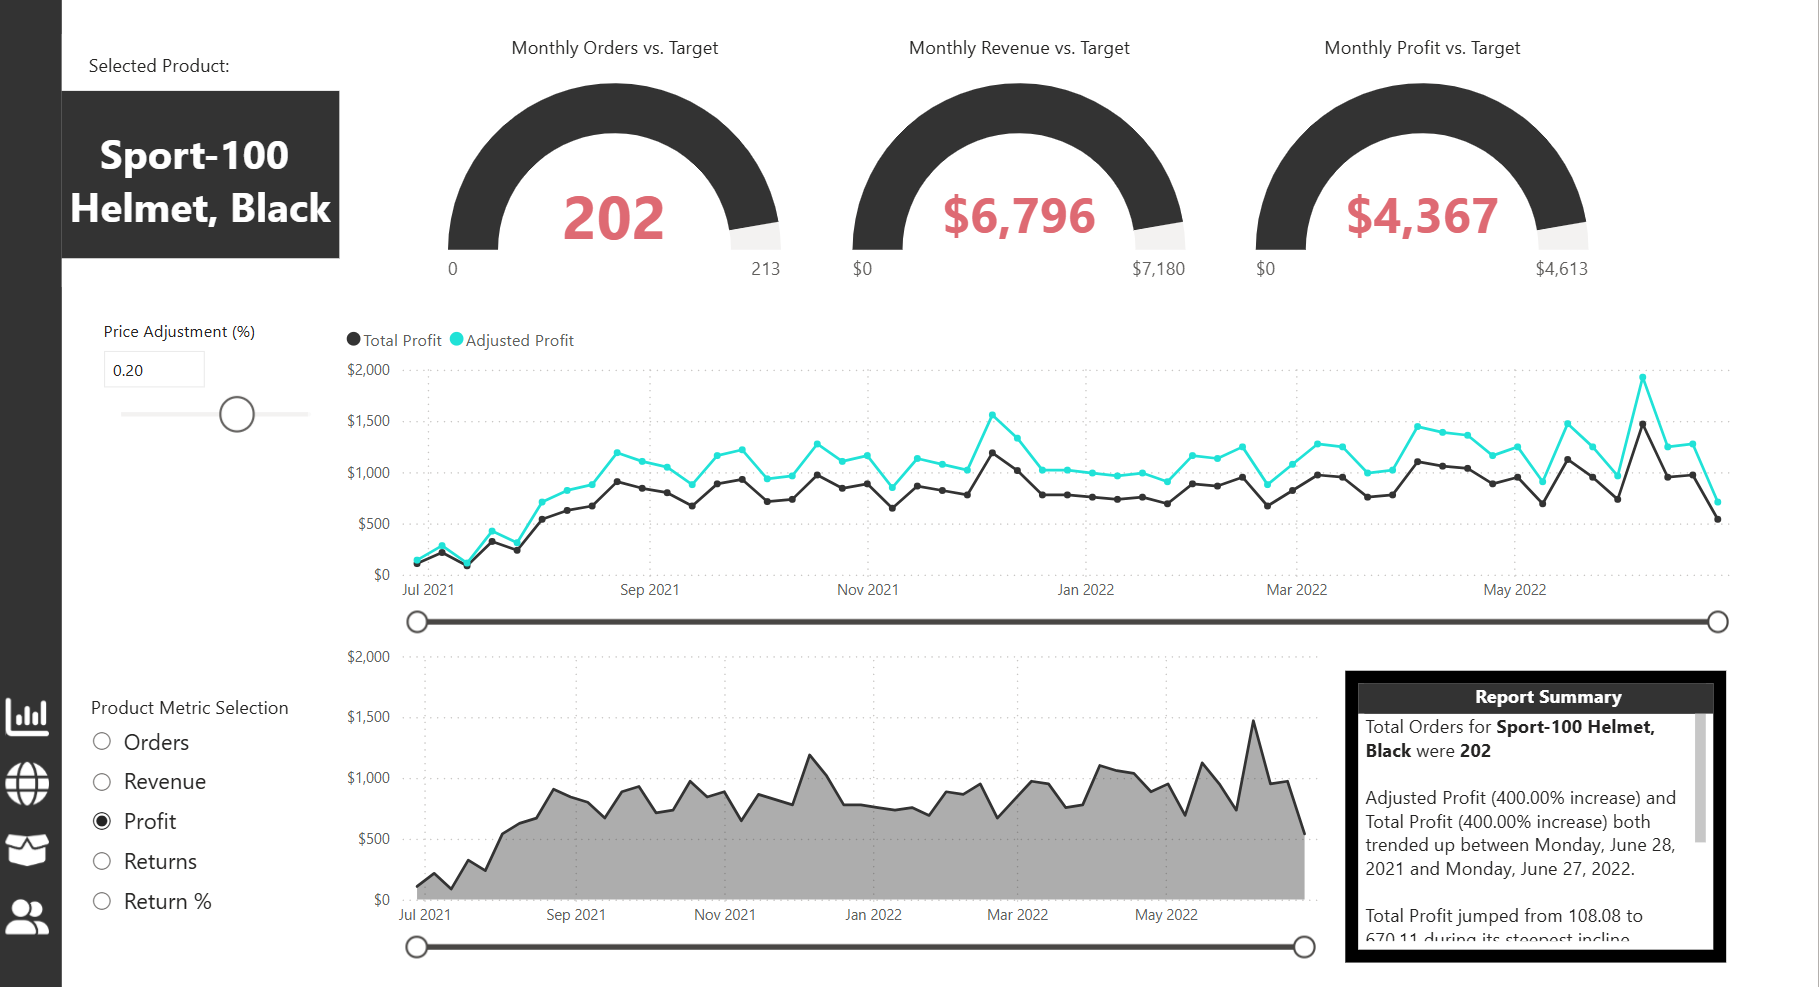

Layout of this report page (visuals, bound fields, positions):
{"tool":"powerbi","page":{"name":"Product Detail","canvas":[1280,720],"ordinal":2},"visuals":[{"type":"shape","box":[0,0,45,720],"z":0},{"type":"actionButton","box":[0,502.2,62.2,39.8],"z":0,"group":"g1"},{"type":"gauge","title":"Monthly Orders vs. Target","fields":{"MaxValue":["Measure Table.Order Target"],"Y":["Measure Table.Total Orders"]},"box":[322,24.9,252.4,202.6],"z":1000},{"type":"actionButton","box":[0,599.2,62.2,39.8],"z":1000,"group":"g1"},{"type":"gauge","title":"Monthly Profit vs. Target","fields":{"MaxValue":["Measure Table.Profit Target"],"Y":["Measure Table.Total Profit"]},"box":[910,24.9,252.4,202.6],"z":2000},{"type":"actionButton","box":[0,647.7,62.2,39.8],"z":2000,"group":"g1"},{"type":"gauge","title":"Monthly Revenue vs. Target","fields":{"MaxValue":["Measure Table.Revenue Target"],"Y":["Measure Table.Total Revenue"]},"box":[616,24.9,252.4,202.6],"z":3000},{"type":"actionButton","box":[0,550.7,62.2,39.8],"z":3000,"group":"g1"},{"type":"lineChart","title":"Profit Trending","fields":{"Category":["Calendar Lookup.Date Hierarchy.Start of Year","Calendar Lookup.Date Hierarchy.Start of Month","Calendar Lookup.Date Hierarchy.Start of Week","Calendar Lookup.Date Hierarchy.Date"],"Y":["Measure Table.Total Profit","Measure Table.Adjusted Profit"]},"box":[247.4,227.5,1033.1,236.2],"z":4000},{"type":"areaChart","title":"Return Trending","fields":{"Category":["Calendar Lookup.Date Hierarchy.Start of Year","Calendar Lookup.Date Hierarchy.Start of Month","Calendar Lookup.Date Hierarchy.Start of Week","Calendar Lookup.Date Hierarchy.Date"],"Y":["Measure Table.Total Profit"]},"box":[247.4,463.7,732.2,236.2],"z":5000},{"type":"card","fields":{"Values":["Min(Product Lookup.ProductName)"]},"box":[44.8,65.9,202.6,121.8],"z":6000},{"type":"textbox","box":[59.7,33.6,136.8,34.8],"z":7000},{"type":"group","id":"g1","title":"Navigation Buttons","box":[0,502.2,62.2,185.2],"z":8000},{"type":"slicer","fields":{"Values":["Price Adjustment (%).Price Adjustment (%)"]},"box":[62.2,227.5,185.2,133],"z":9000},{"type":"slicer","fields":{"Values":["Product Metric Selection .Product Metric Selection "]},"box":[53.5,501,193.9,186.5],"z":10000},{"type":"textbox","title":"Report Summary","box":[979.6,488.6,277.2,212.6],"z":11000}]}

Visuals, with their boxes on the page's 1280x720 design canvas (x1, y1, x2, y2). These are canvas units, not pixel positions in the 1820x987 screenshot, which may show the page scaled, cropped or inside an application window:
shape: region(0, 0, 45, 720)
actionButton: region(0, 502, 62, 542)
"Monthly Orders vs. Target" gauge: region(322, 25, 574, 228)
actionButton: region(0, 599, 62, 639)
"Monthly Profit vs. Target" gauge: region(910, 25, 1162, 228)
actionButton: region(0, 648, 62, 688)
"Monthly Revenue vs. Target" gauge: region(616, 25, 868, 228)
actionButton: region(0, 551, 62, 590)
"Profit Trending" lineChart: region(247, 228, 1280, 464)
"Return Trending" areaChart: region(247, 464, 980, 700)
card - Min(Product Lookup.ProductName): region(45, 66, 247, 188)
textbox: region(60, 34, 196, 68)
"Navigation Buttons" group: region(0, 502, 62, 687)
slicer - Price Adjustment (%).Price Adjustment (%): region(62, 228, 247, 360)
slicer - Product Metric Selection .Product Metric Selection : region(54, 501, 247, 688)
"Report Summary" textbox: region(980, 489, 1257, 701)
